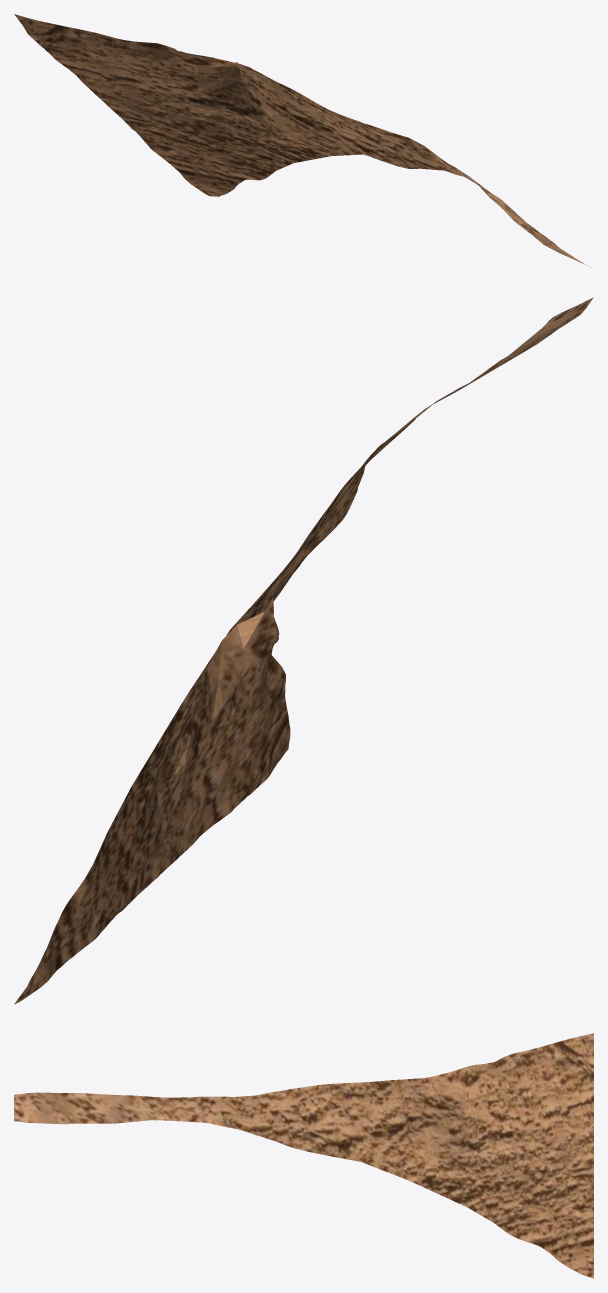
3 renders of one model, top to bottom at view 1: azimuth 30°, elevation 25°; view 2: azimuth 150°, elevation 25°; view 3: azimuth 270°, elevation 25°, orthographic. The views are drawn at different scales.
Bounding box in the file's own units: 0.6135 × 0.6892 × 2.09.
1 material, 1 textured.
